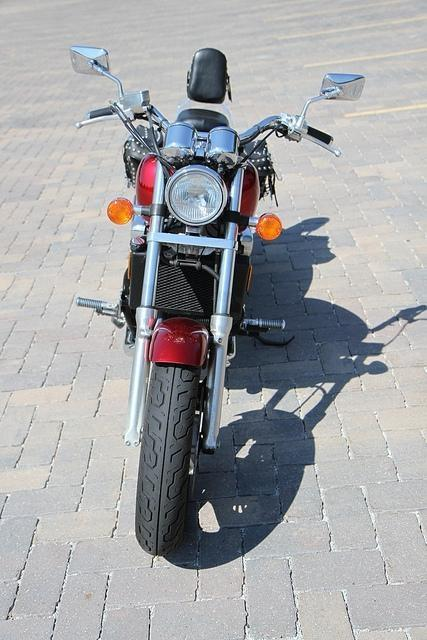motorcycle: (68, 44, 366, 560)
